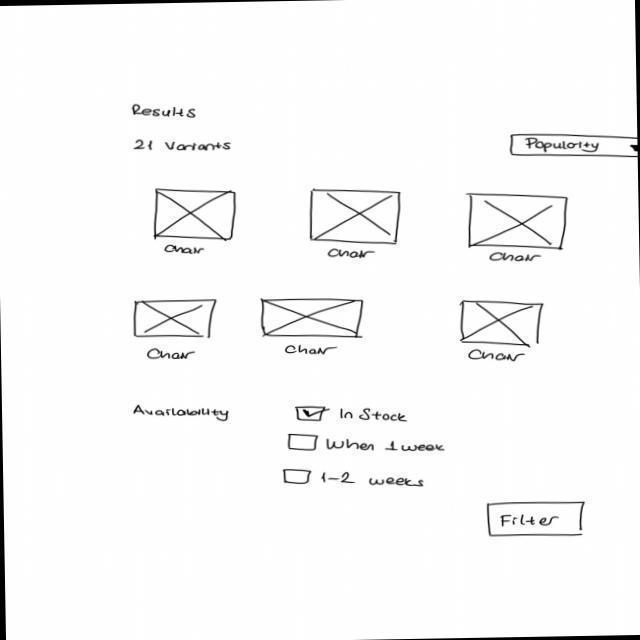button: (486, 500, 589, 539)
checkbox: (288, 430, 448, 458), (281, 466, 427, 492), (295, 403, 412, 427)
image: (466, 190, 572, 252), (306, 187, 404, 247), (150, 185, 238, 243), (259, 297, 367, 341), (459, 299, 545, 349), (133, 299, 219, 339)
label: (131, 402, 234, 426), (131, 137, 234, 154), (129, 102, 200, 121), (463, 348, 527, 363), (143, 346, 203, 361), (282, 343, 339, 357), (327, 246, 379, 260), (489, 250, 545, 263), (162, 244, 209, 256)
select: (506, 131, 638, 160)
